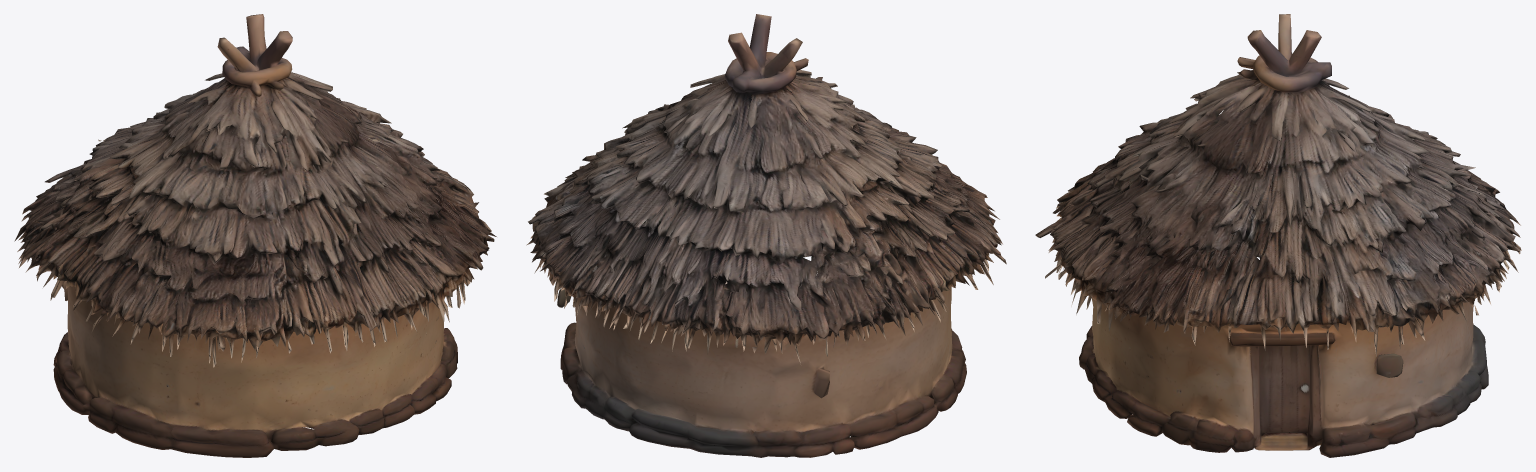
Rendered from mudhut.glb.
3 views of the same model, side by side, from view 1: azimuth 30°, elevation 25°; view 2: azimuth 150°, elevation 25°; view 3: azimuth 270°, elevation 25° (orthographic).
Parts seen in each view (by area): view 1: tripo_node_77ac8f9c-1097-493f-9f88-969c92b3df04; view 2: tripo_node_77ac8f9c-1097-493f-9f88-969c92b3df04; view 3: tripo_node_77ac8f9c-1097-493f-9f88-969c92b3df04.
Part boxes in pixels (x1,y1,x2,y2): tripo_node_77ac8f9c-1097-493f-9f88-969c92b3df04: [14, 14, 496, 457]; tripo_node_77ac8f9c-1097-493f-9f88-969c92b3df04: [526, 14, 1006, 457]; tripo_node_77ac8f9c-1097-493f-9f88-969c92b3df04: [1035, 14, 1521, 457].
Size of the model in its own units: 5.81 by 4.84 by 6.
Materials: 1 (1 with a texture image).
